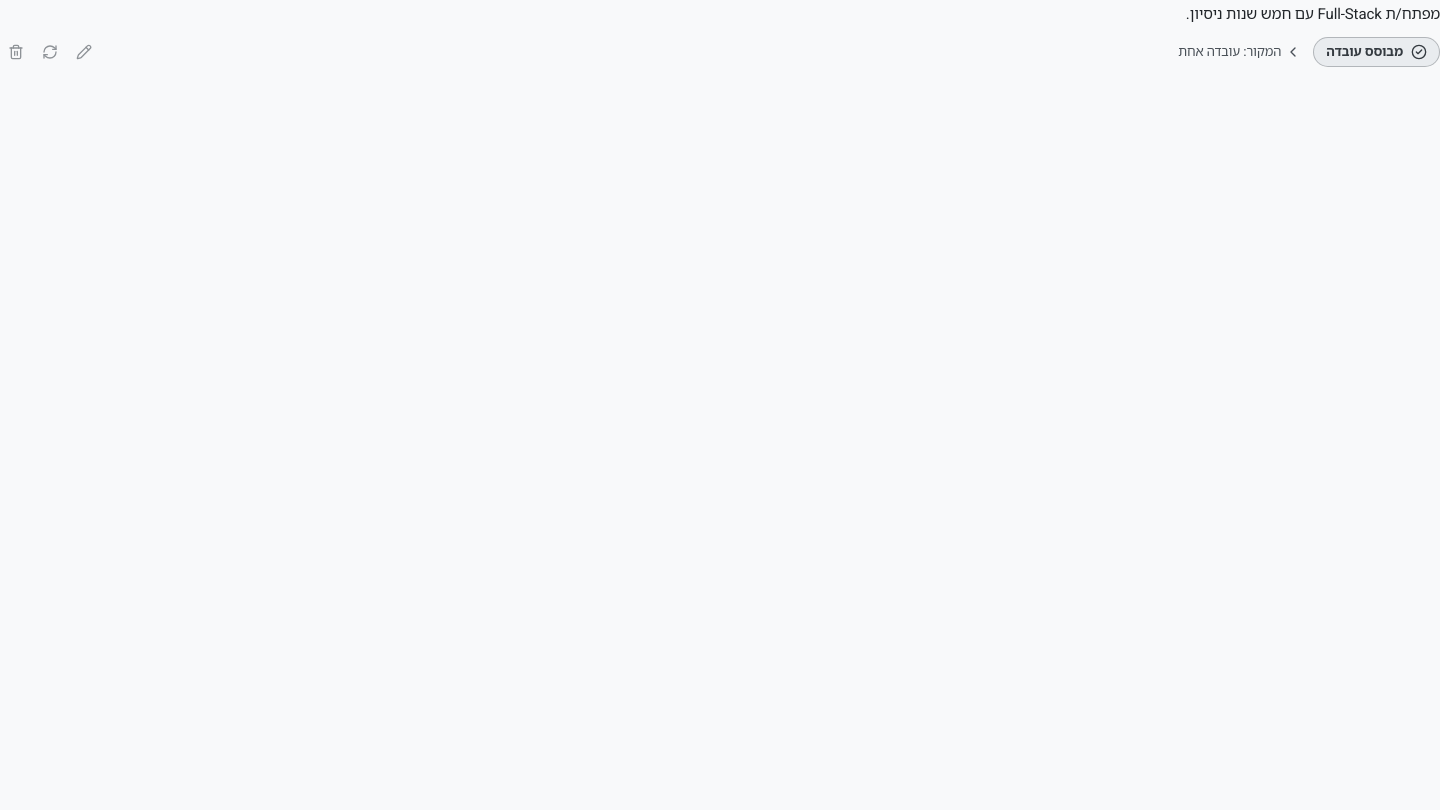
DraftClaimRow › closes the confirmation dialog on cancel without removing the line
Step 1. Click the button named "הסרת השורה" → (16, 52), box [0, 36, 32, 68]
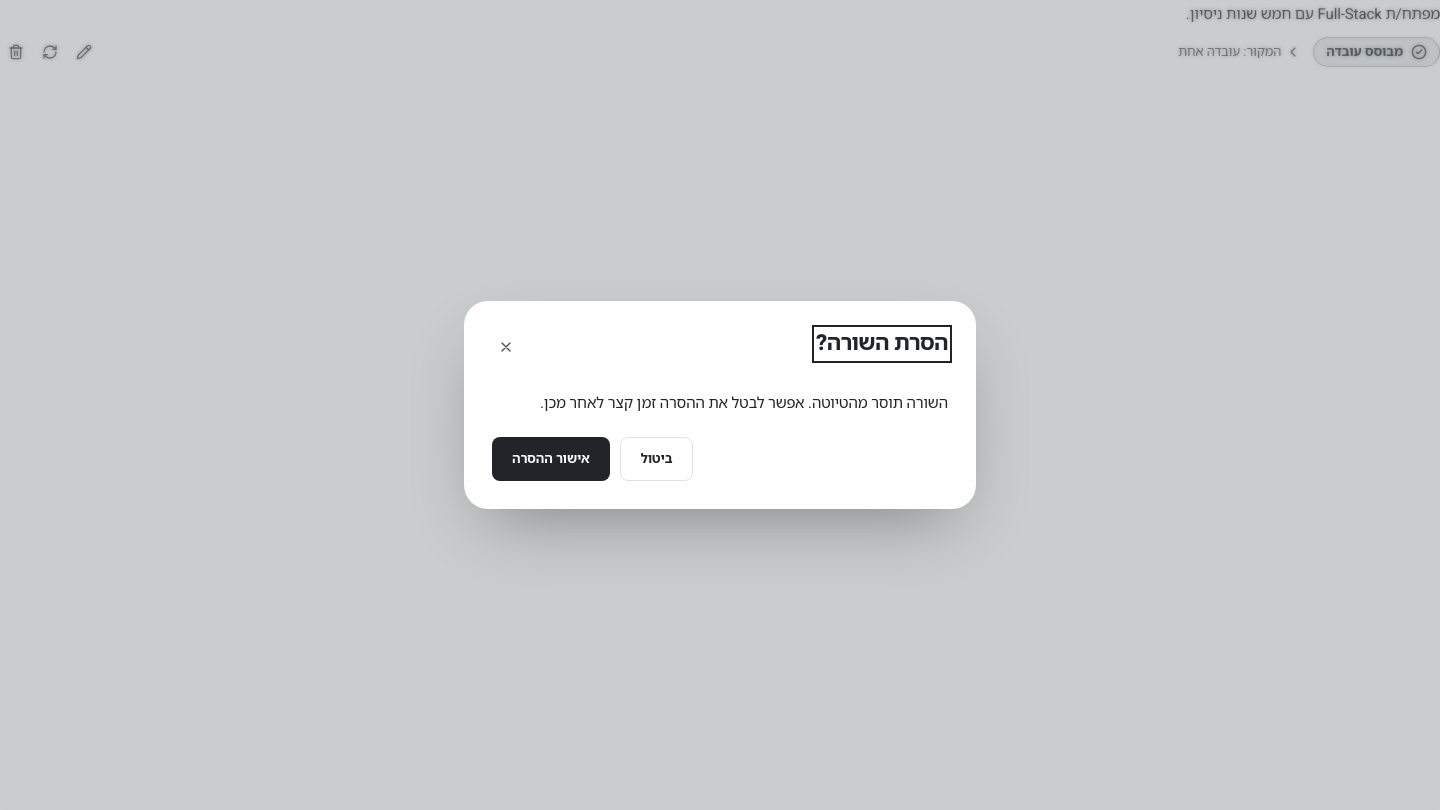
Step 2. Click the button "ביטול" → (656, 459), box [620, 437, 693, 481]
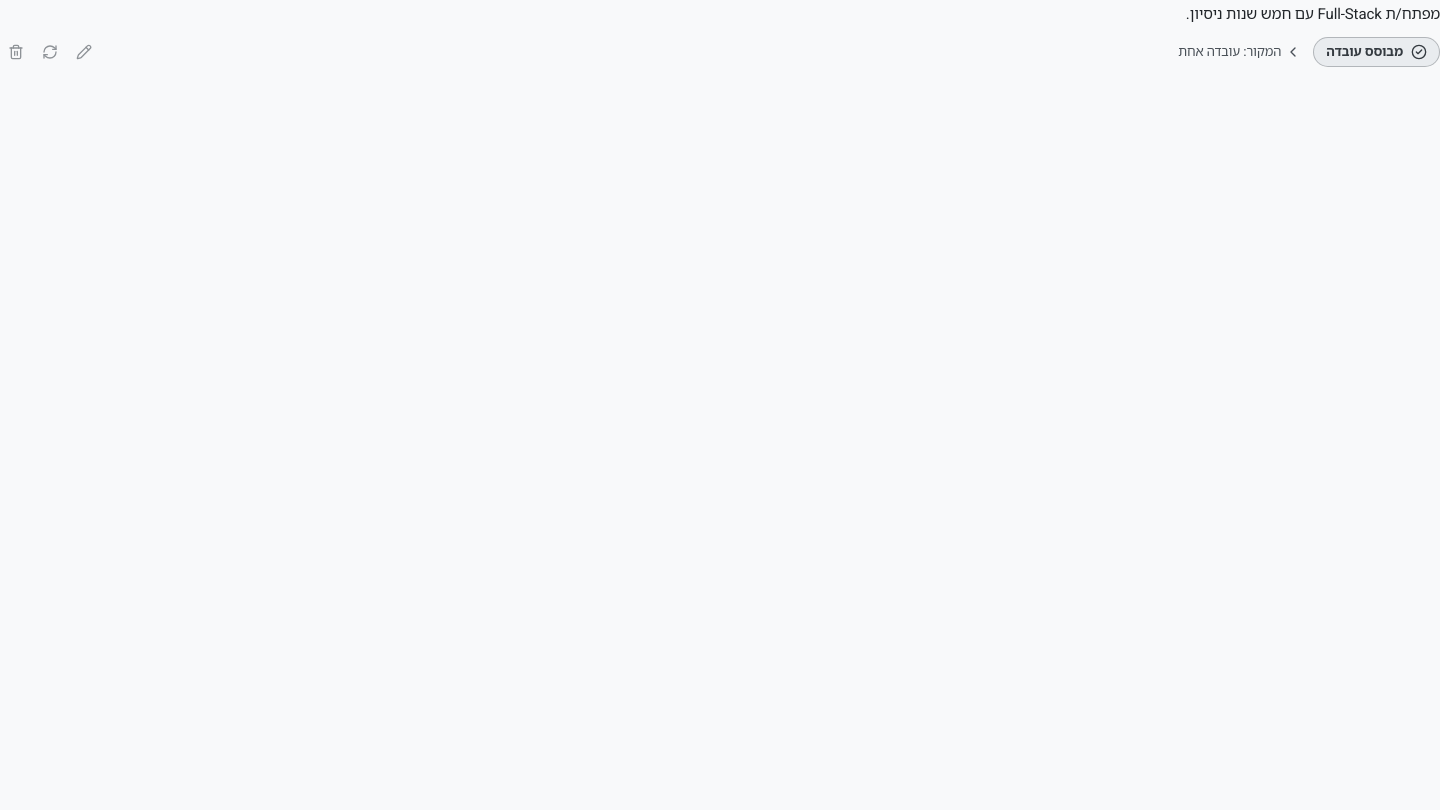
Now the dialog is gone
